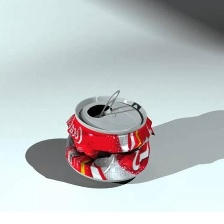can: (59, 88, 157, 188)
